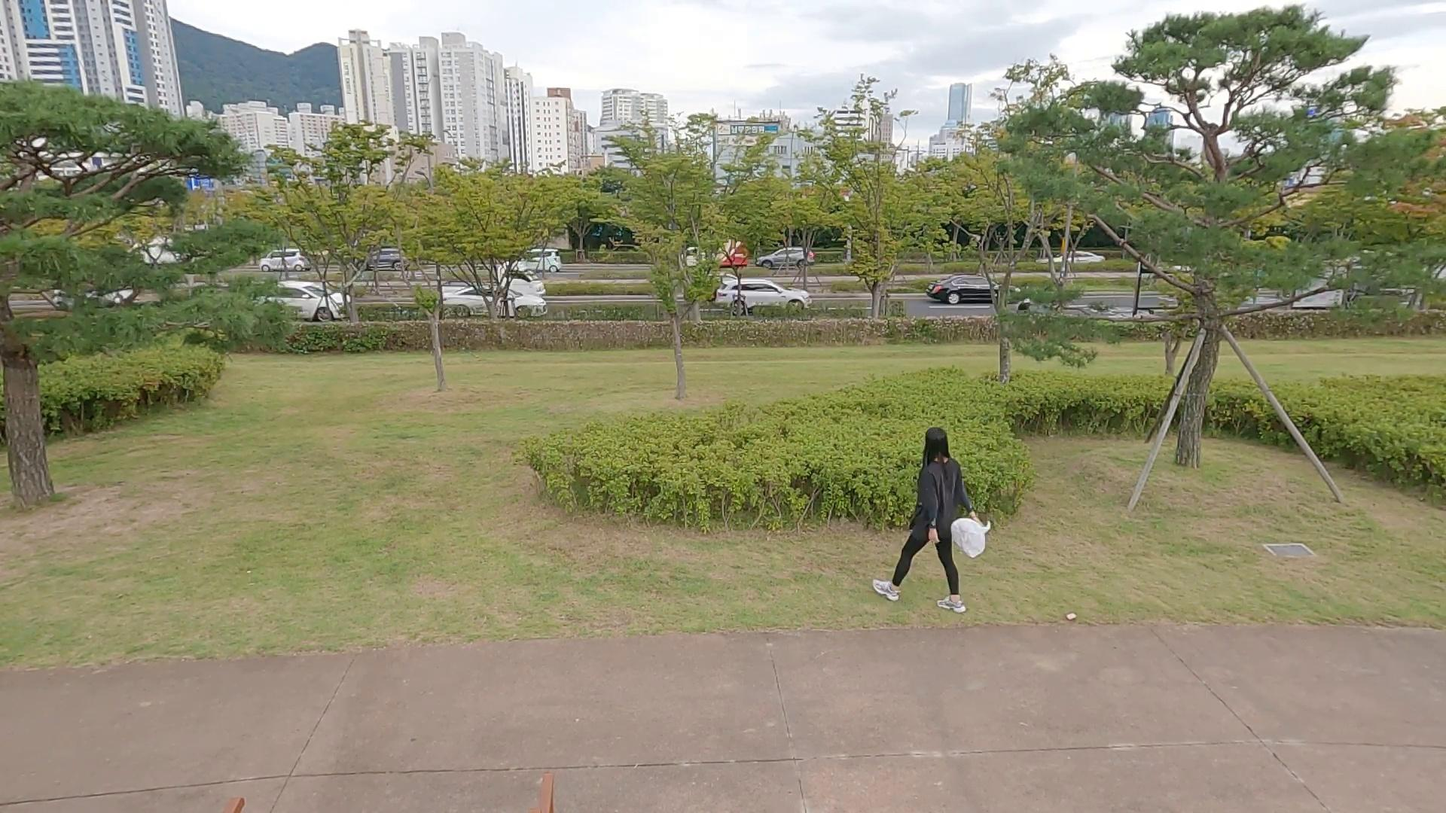person: (871, 423, 984, 611)
trash: (950, 505, 996, 561)
